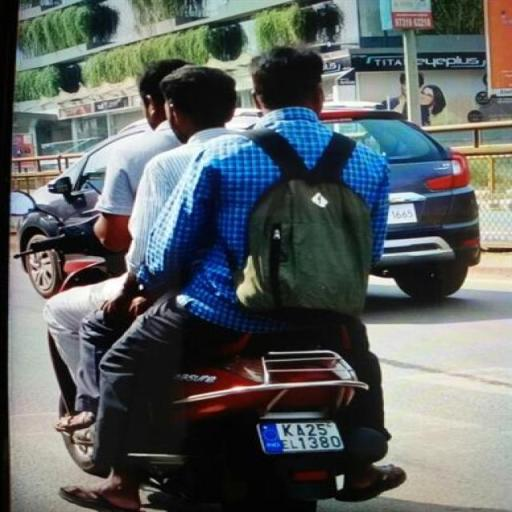tripple riding: (23, 42, 395, 338)
